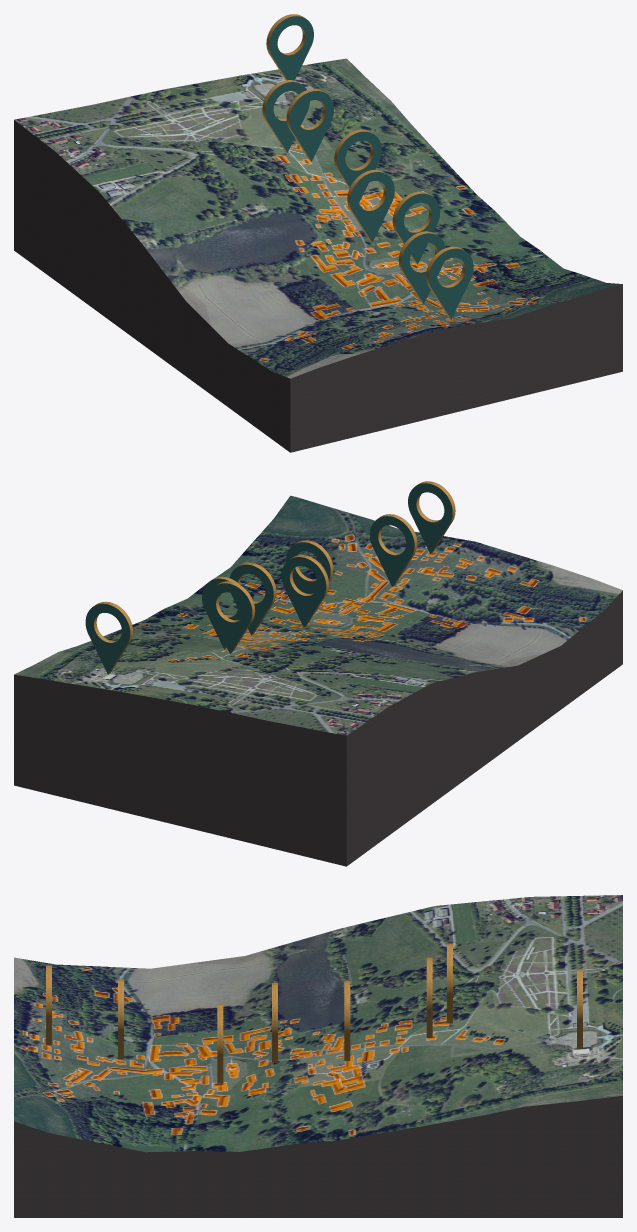
The model's file is lidice_model.glb.
The picture shows the model from 3 angles, top to bottom: view 1: azimuth 30°, elevation 25°; view 2: azimuth 150°, elevation 25°; view 3: azimuth 270°, elevation 25°; orthographic projection. The views are drawn at different scales.
Visible parts, largest first — view 1: object 1, #5, #1, #6, #8, #3, #4, #7, #2; view 2: object 1, #5, #7, #2, #6, #8, #4, #3, #1; view 3: object 1, #1, #3, #4, #2, #5, #6, #7, #8.
Part boxes in pixels (x1,y1,x2,y2): object 1: (14,58,622,452); #5: (426,246,473,319); #1: (286,89,333,161); #6: (347,170,394,242); #8: (266,14,313,80); #3: (392,191,440,264); #4: (334,129,381,202); #7: (262,80,309,152); #2: (398,231,445,304); object 1: (14,495,622,866); #5: (408,481,455,553); #7: (207,581,255,653); #2: (370,514,417,586); #6: (281,555,328,627); #8: (85,601,132,674); #4: (229,562,276,635); #3: (286,540,333,593); #1: (202,576,243,649); object 1: (14,895,622,1217); #1: (426,957,432,1037); #3: (217,1003,223,1083); #4: (344,980,350,1060); #2: (118,979,123,1059); #5: (46,965,51,1045); #6: (272,982,277,1062); #7: (447,943,452,1023); #8: (577,969,582,1049).
Bounding box in the file's own units: 0.4865 × 0.2605 × 0.7003.
4 materials, 3 textured.
